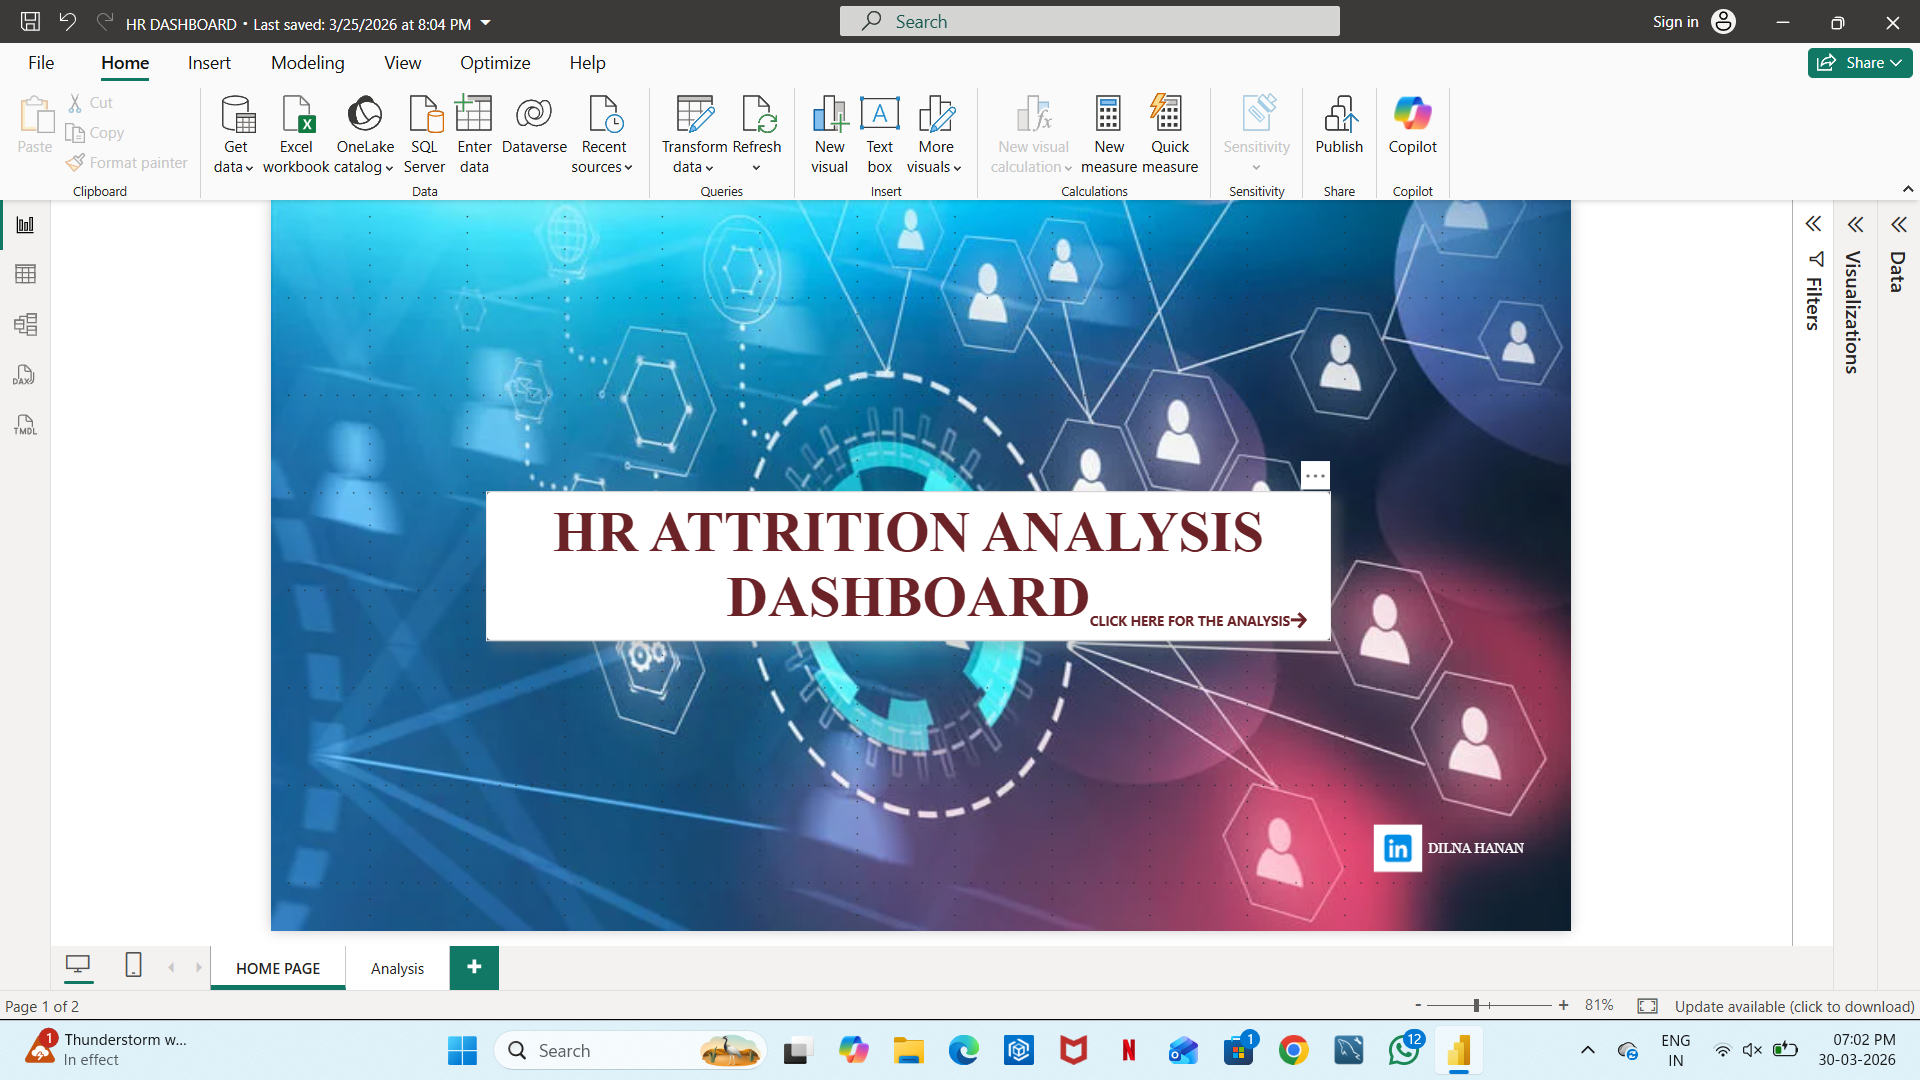

This screenshot's page, from the dashboard's own definition file:
{"tool":"powerbi","page":{"name":"HOME PAGE","canvas":[1280,720],"ordinal":0},"visuals":[{"type":"textbox","box":[211.5,286.6,832,147.5],"z":0},{"type":"actionButton","box":[781.9,393.7,242.1,40.3],"z":1000},{"type":"actionButton","box":[1082.4,610.8,155.8,55.7],"z":2000}]}

Visuals, with their boxes on the page's 1280x720 design canvas (x1, y1, x2, y2). These are canvas units, not pixel positions in the 1920x1080 screenshot, which may show the page scaled, cropped or inside an application window:
textbox: x1=212, y1=287, x2=1044, y2=434
actionButton: x1=782, y1=394, x2=1024, y2=434
actionButton: x1=1082, y1=611, x2=1238, y2=666
